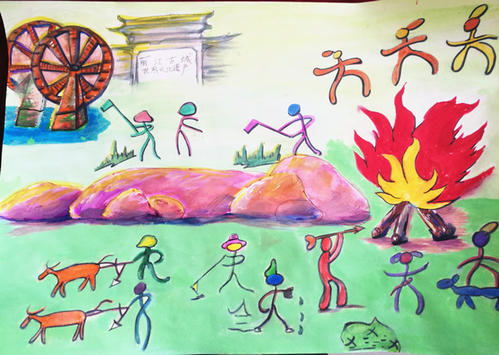naxi: (21, 229, 497, 352), (310, 7, 495, 110), (99, 93, 207, 169), (230, 102, 325, 172)
